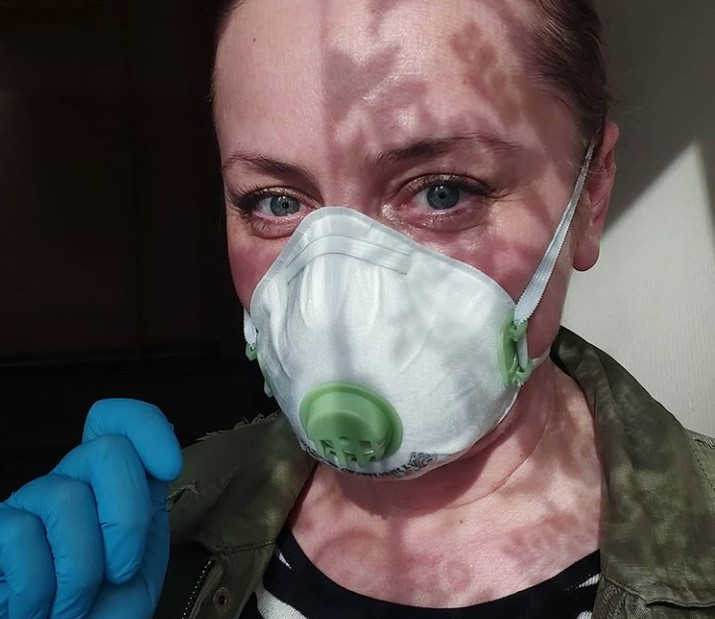face_with_mask: (203, 3, 623, 478)
